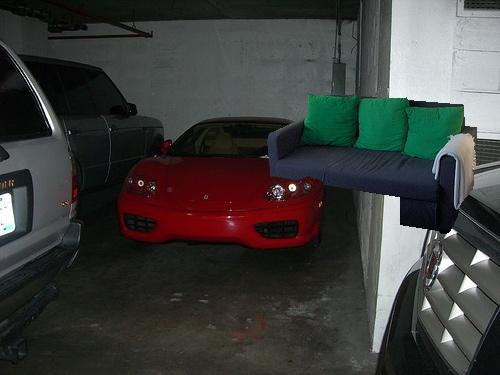tampered: (268, 94, 477, 234)
